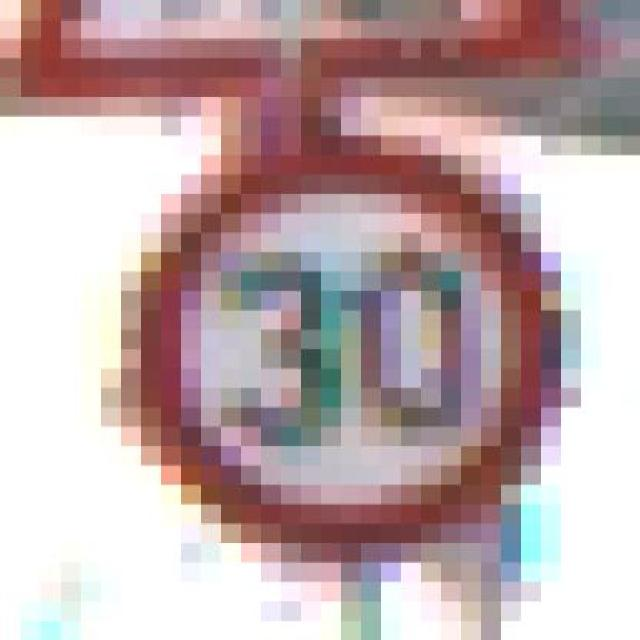Speed Limit 30 KMPh: (20, 97, 620, 563)
